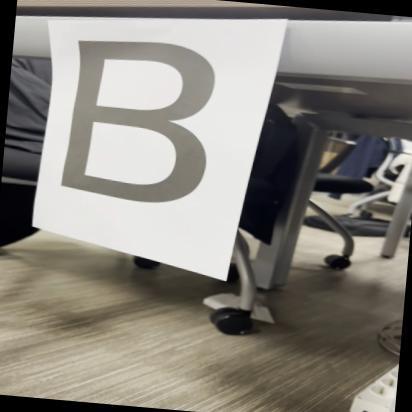seat: (56, 24, 226, 226)
